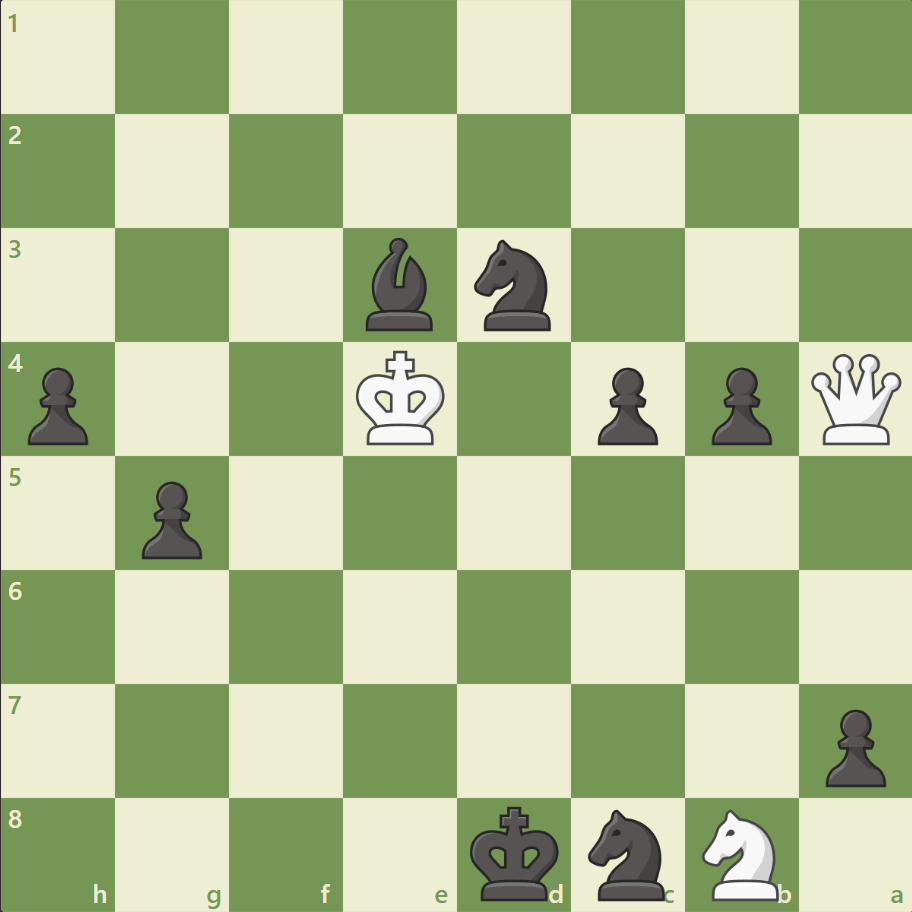K: (351, 344, 451, 452)
N: (692, 802, 789, 904)
Q: (805, 349, 904, 449)
b: (358, 233, 442, 336)
k: (465, 798, 565, 906)
n: (465, 234, 562, 337), (579, 802, 676, 904)
p: (133, 473, 208, 564), (701, 359, 776, 450), (20, 359, 95, 450), (815, 700, 889, 791), (588, 359, 662, 450)
